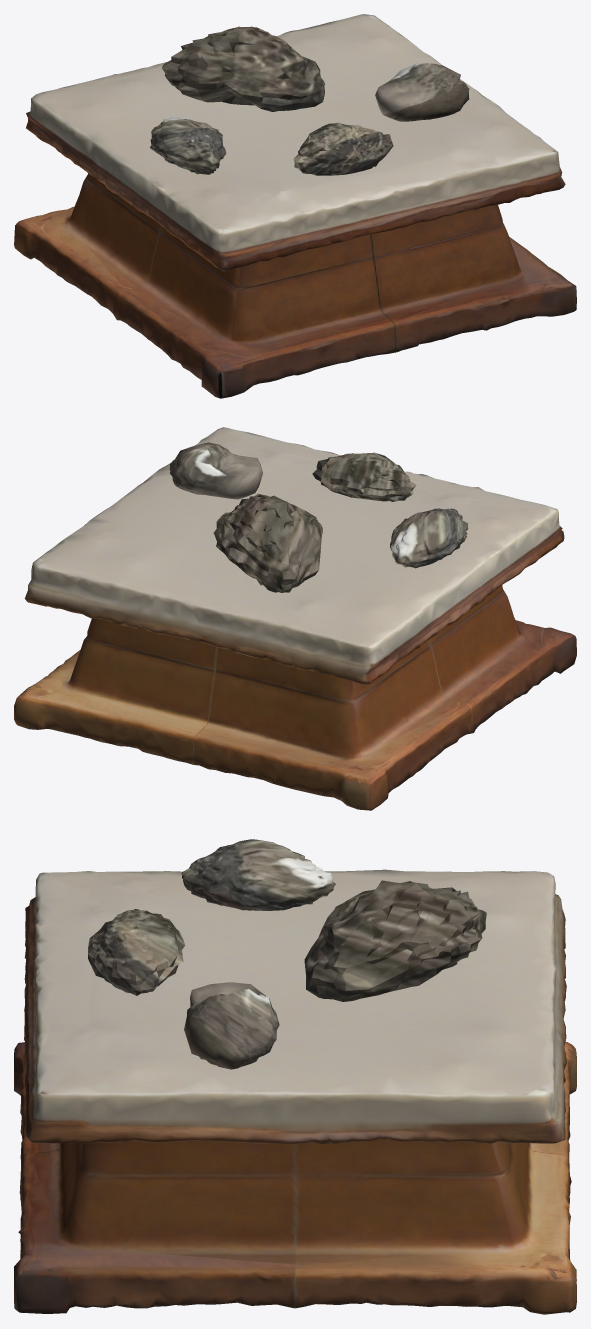
The model's file is benda28.glb.
3 renders of one model, top to bottom at view 1: azimuth 30°, elevation 25°; view 2: azimuth 150°, elevation 25°; view 3: azimuth 270°, elevation 25°, orthographic. The views are drawn at different scales.
Visible parts, largest first — view 1: Mesh_0, Cube.001, Cube.004, Cube, Cube.003; view 2: Mesh_0, Cube.001, Cube.004, Cube, Cube.003; view 3: Mesh_0, Cube.001, Cube.003, Cube.004, Cube.
Part boxes in pixels (x1,y1,x2,y2): Mesh_0: (14, 14, 576, 398); Cube.001: (162, 26, 325, 111); Cube.004: (375, 62, 469, 121); Cube: (293, 122, 393, 175); Cube.003: (150, 117, 226, 174); Mesh_0: (14, 427, 576, 810); Cube.001: (213, 493, 322, 592); Cube.004: (169, 442, 262, 499); Cube: (312, 452, 416, 501); Cube.003: (390, 508, 468, 568); Mesh_0: (14, 869, 576, 1314); Cube.001: (304, 880, 486, 1001); Cube.003: (181, 839, 335, 910); Cube.004: (184, 982, 279, 1069); Cube: (88, 909, 185, 995).
Size of the model in its own units: 2.8 by 1.67 by 2.8.
2 materials, 2 textured.
